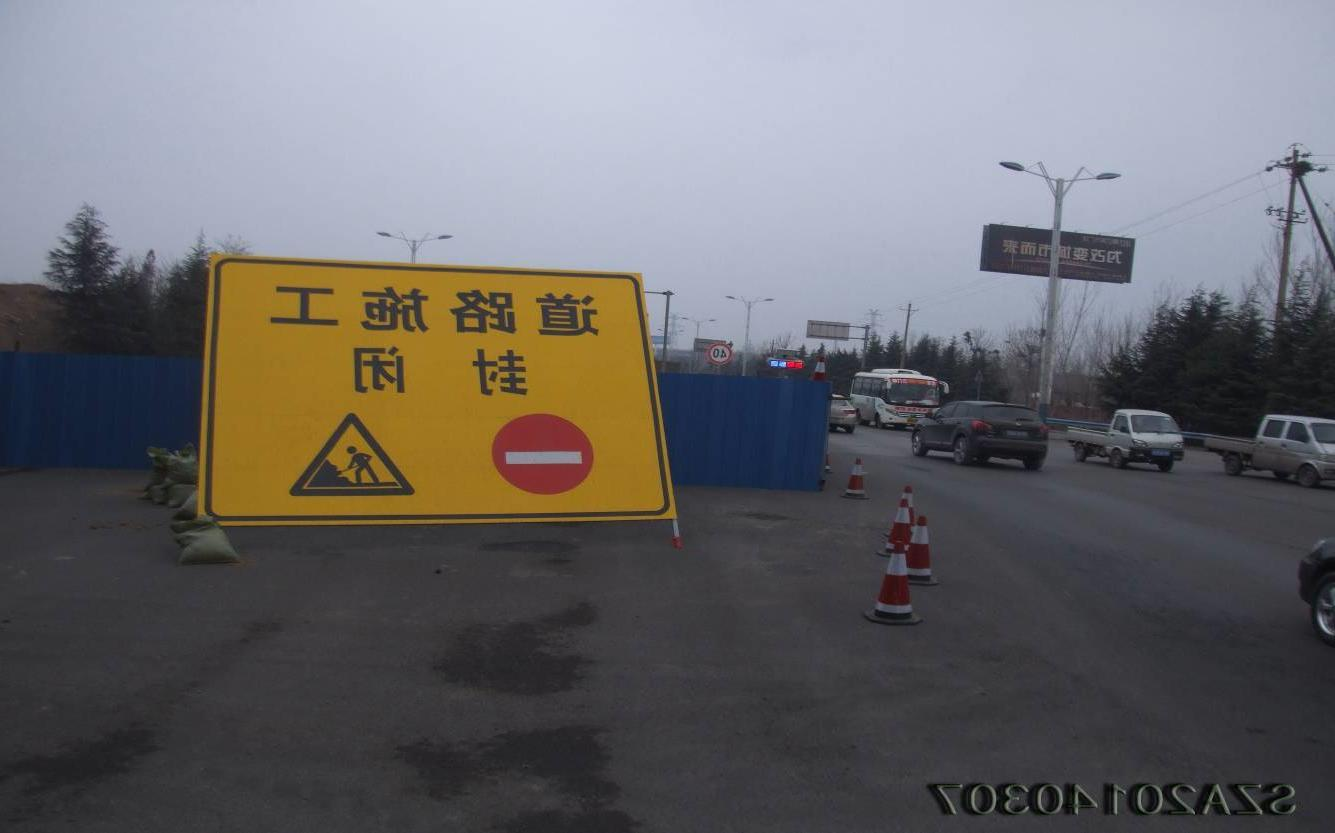sign: (200, 254, 670, 535)
